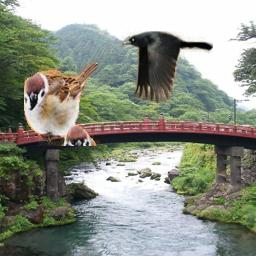Crow: (121, 30, 213, 103)
Sparrow: (24, 62, 100, 146)
